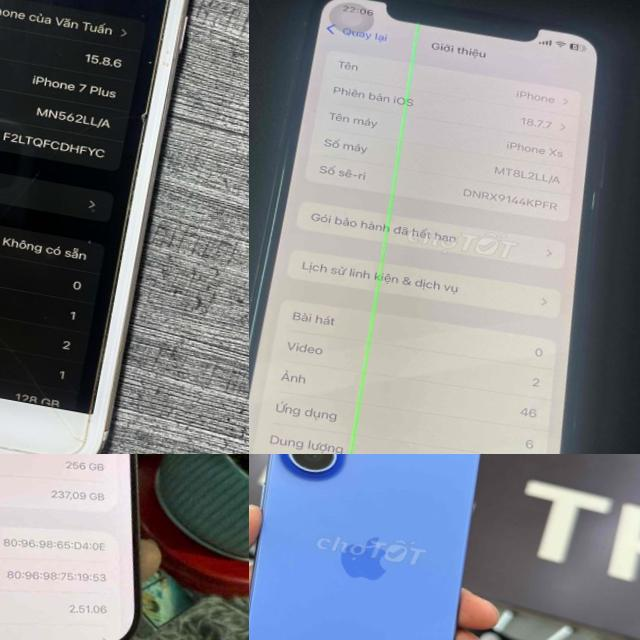physical_damage: (0, 350, 68, 407), (46, 406, 89, 444), (0, 298, 18, 350), (136, 109, 150, 125)
scratch: (159, 42, 174, 70)
screen_defect: (326, 17, 440, 454)
